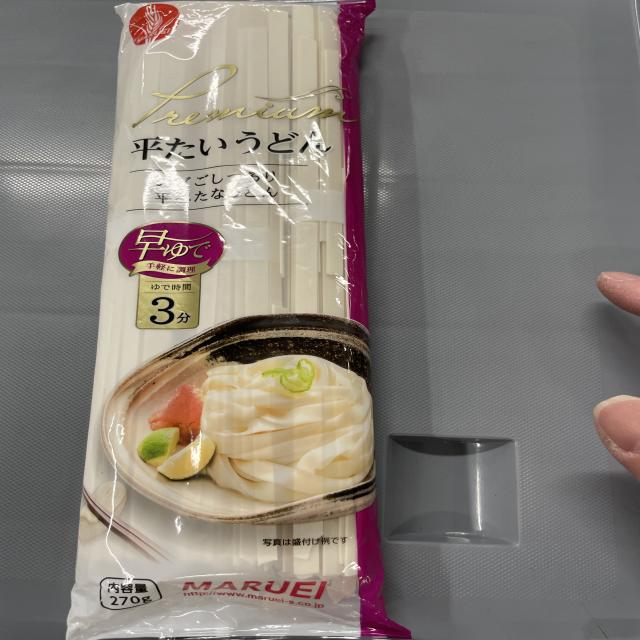object_name: (108, 8, 367, 640)
